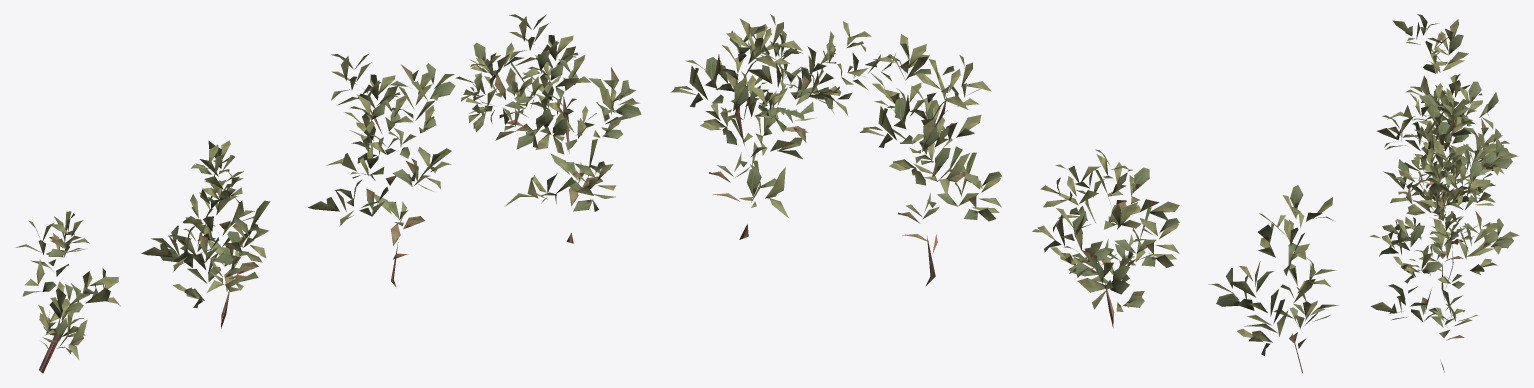
Rendered from shrub_04_wood.glb.
3 renders of one model, left to right at view 1: azimuth 30°, elevation 25°; view 2: azimuth 150°, elevation 25°; view 3: azimuth 270°, elevation 25°, orthographic. The views are drawn at different scales.
Parts seen in each view (by area): view 1: shrub_04; view 2: shrub_04; view 3: shrub_04.
Boxes of the visible parts, left/top/right/bottom form: shrub_04: left=16, top=14, right=641, bottom=373; shrub_04: left=670, top=14, right=1339, bottom=373; shrub_04: left=1369, top=14, right=1519, bottom=372.
Size of the model in its own units: 0.5837 by 0.2185 by 0.1461.
1 material, 1 textured.
